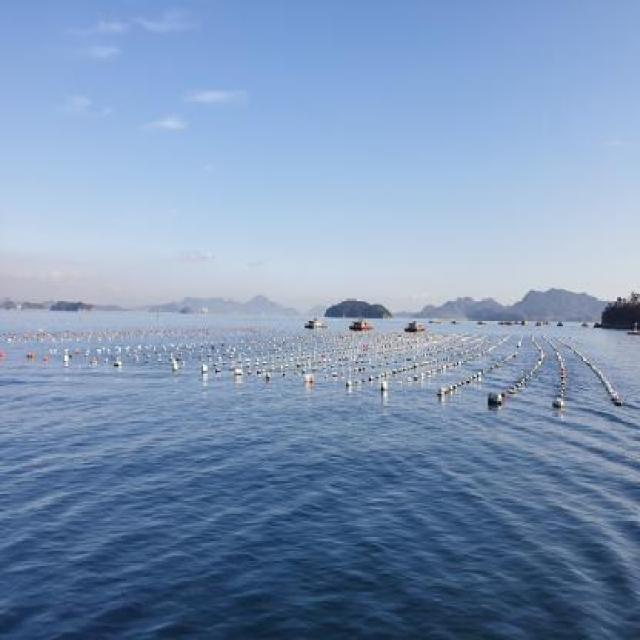a: (485, 391, 508, 417), (166, 357, 190, 380), (594, 366, 613, 393), (260, 343, 280, 365), (116, 356, 133, 378), (304, 369, 321, 391), (489, 345, 504, 369), (378, 376, 393, 399), (419, 343, 438, 361), (288, 341, 303, 363), (457, 343, 471, 366), (317, 343, 331, 364), (219, 344, 236, 361), (561, 359, 573, 383), (63, 351, 77, 369), (202, 363, 215, 382), (86, 356, 99, 374), (390, 343, 406, 357), (347, 348, 360, 365), (534, 356, 546, 374), (234, 368, 246, 385), (267, 370, 275, 384)
